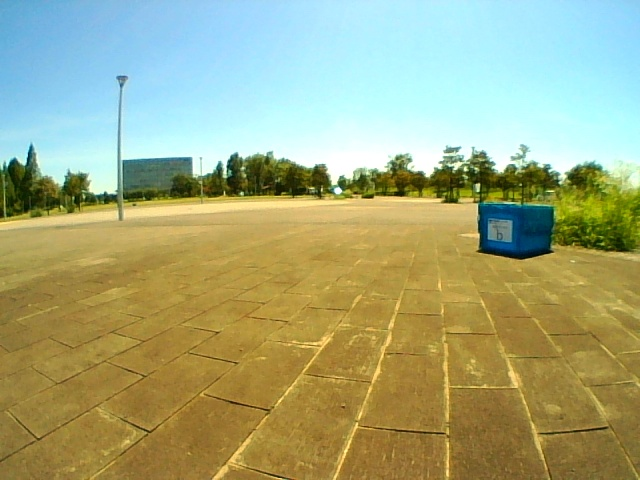blue_box: (480, 205, 551, 251)
tag_b: (489, 220, 512, 241)
